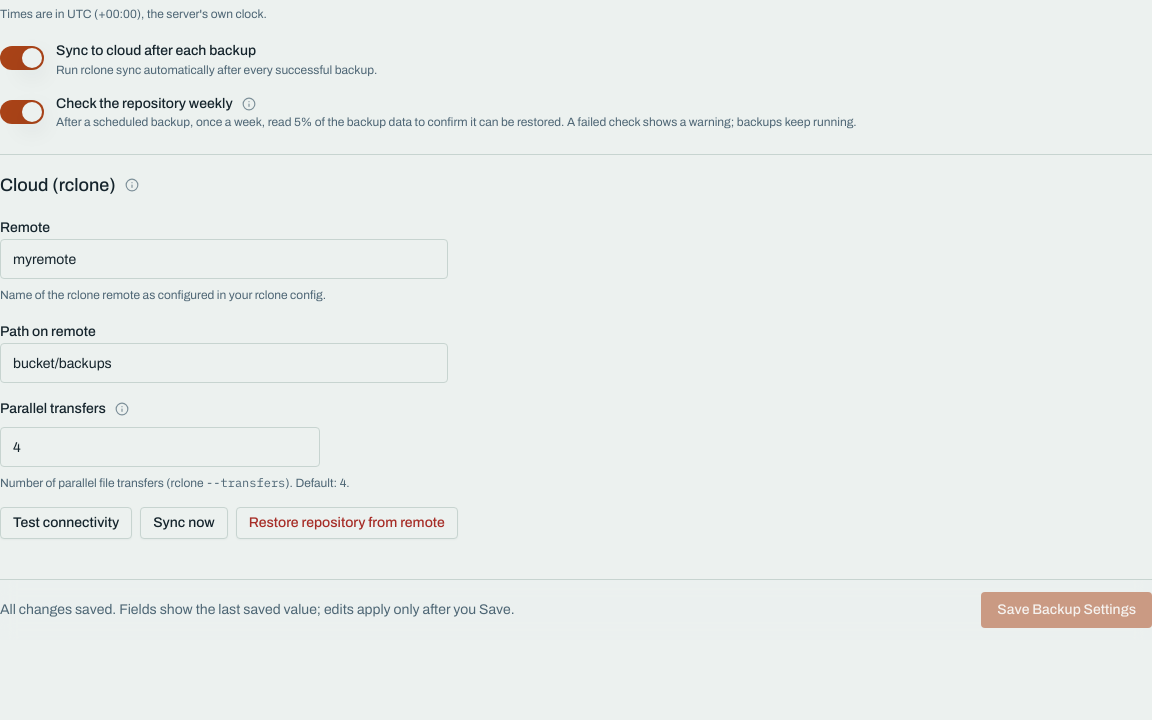
Test: BackupSettingsContent — Restore repository from remote › names the source, the local repository and the side folder, and says it restores neither database nor stacks
(page scrolled)
Click the button "Restore repository from remote" at [347, 523], box [236, 507, 458, 539]
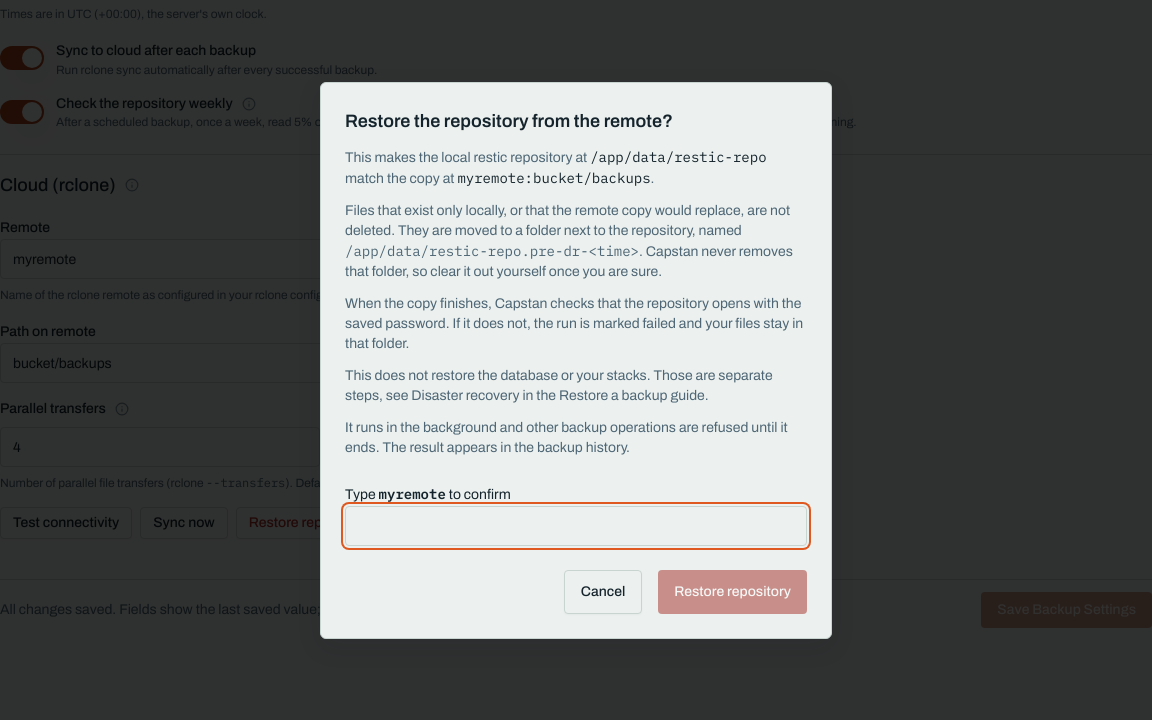
expect the text "myremote:bucket/backups" is shown: met, box [457, 168, 651, 186]
expect the text "/app/data/restic-repo" is shown: met, box [590, 148, 767, 166]
expect the text "/app/data/restic-repo.pre-dr-<time>" is shown: met, box [345, 242, 639, 260]
